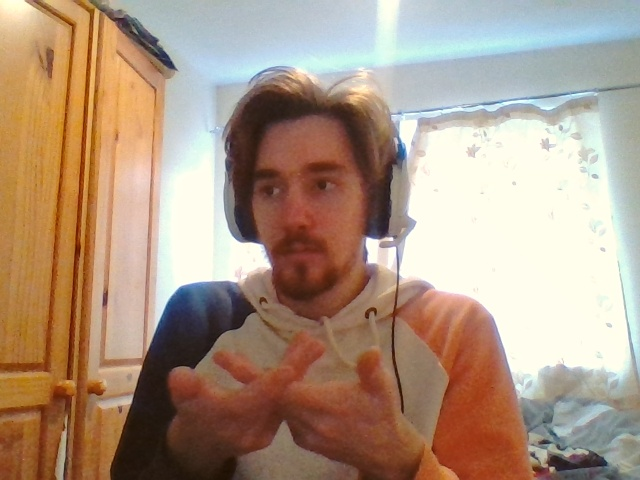how: (166, 331, 402, 460)
